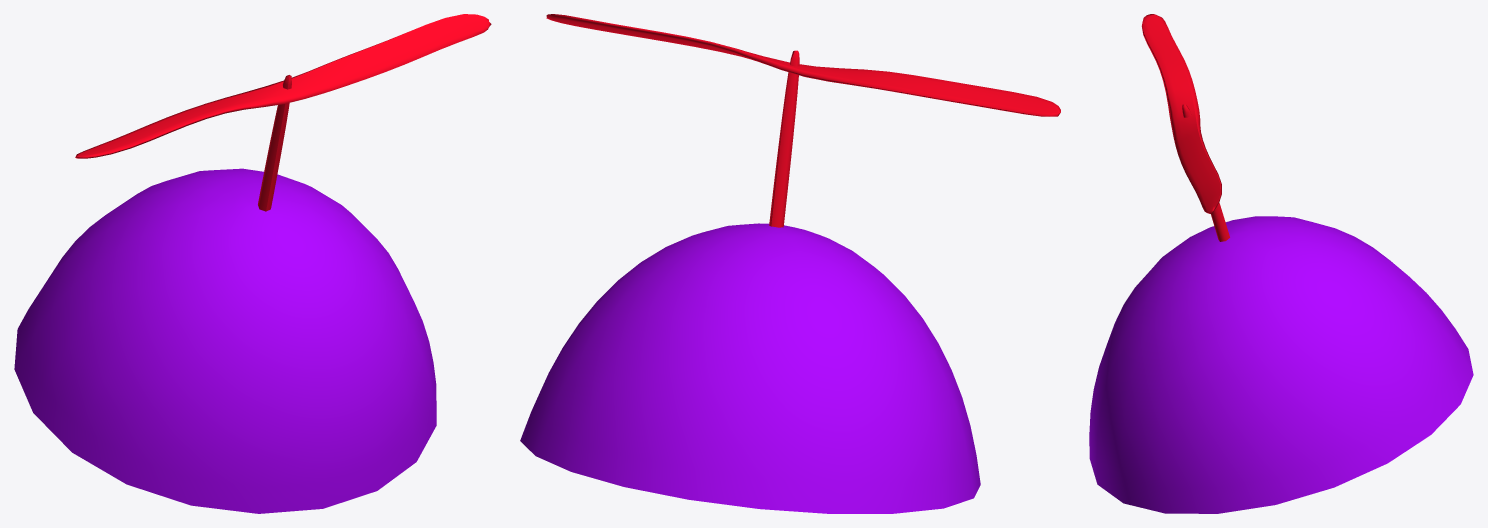
File: hat_AAA.FBX
3 renders of one model, left to right at view 1: azimuth 30°, elevation 25°; view 2: azimuth 150°, elevation 25°; view 3: azimuth 270°, elevation 25°, orthographic. The views are drawn at different scales.
Parts seen in each view (by area): view 1: hat; view 2: hat; view 3: hat.
Boxes of the visible parts, x1=… form: hat: x1=14, y1=14, x2=491, y2=513; hat: x1=520, y1=14, x2=1060, y2=513; hat: x1=1089, y1=14, x2=1473, y2=513.
Size of what is drawn, in the model's own units: 78.99 by 63.78 by 66.38.
